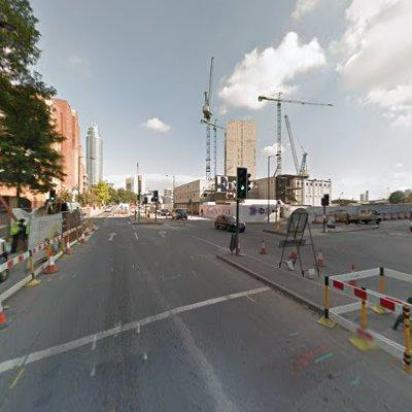moving-car: (212, 211, 248, 231), (172, 207, 188, 221), (158, 208, 172, 216), (104, 206, 112, 213)
moving-heavy-truck: (332, 207, 384, 223)
